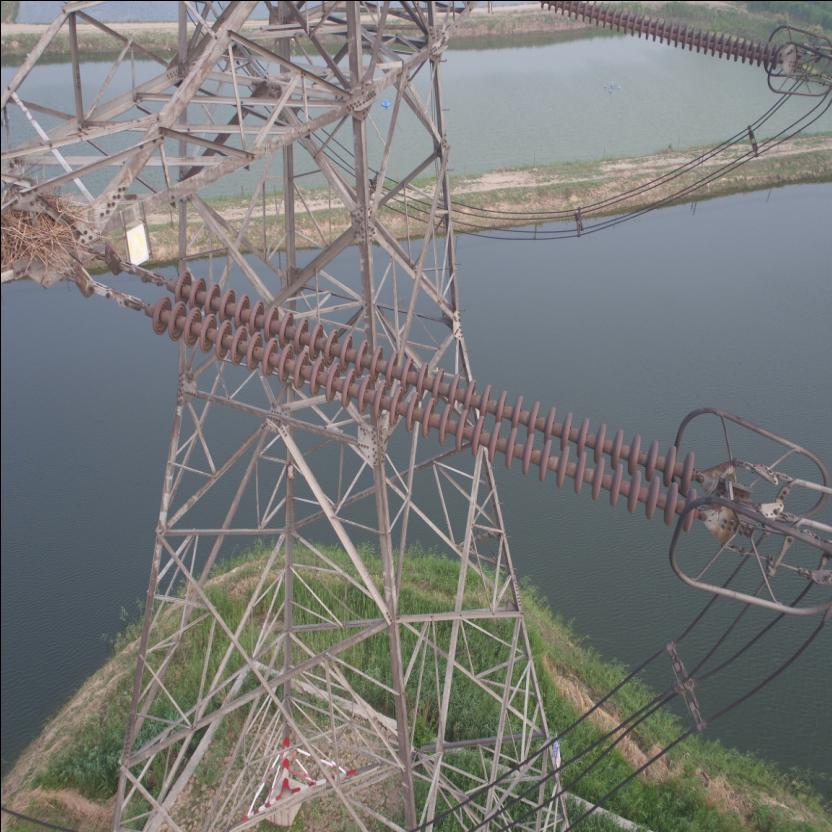insulator: (123, 264, 713, 532), (526, 1, 787, 70)
